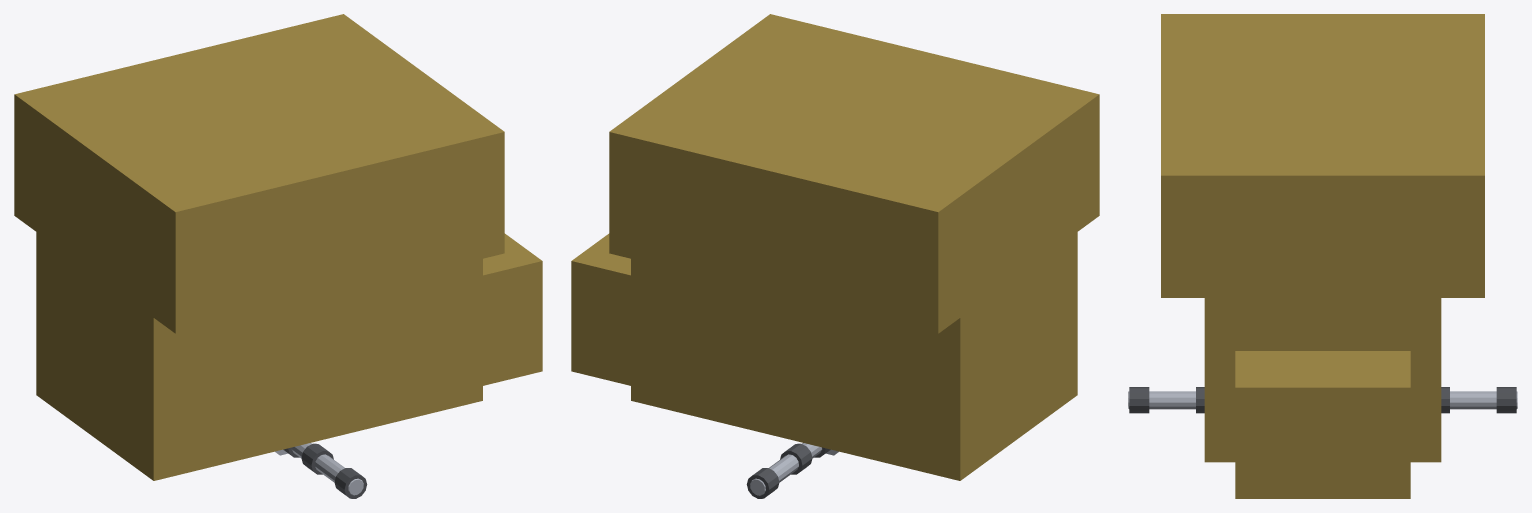
The picture shows the model from 3 angles, left to right: view 1: azimuth 30°, elevation 25°; view 2: azimuth 150°, elevation 25°; view 3: azimuth 270°, elevation 25°; orthographic projection.
Parts seen in each view (by area): view 1: _titanium_bar; view 2: _titanium_bar; view 3: _titanium_bar.
Part boxes in pixels (box(x1,y1,x2,y2)): _titanium_bar: box(14, 14, 542, 498); _titanium_bar: box(571, 14, 1099, 498); _titanium_bar: box(1128, 14, 1517, 498).
Bounding box in the file's own units: 0.3215 × 0.2667 × 0.242.
